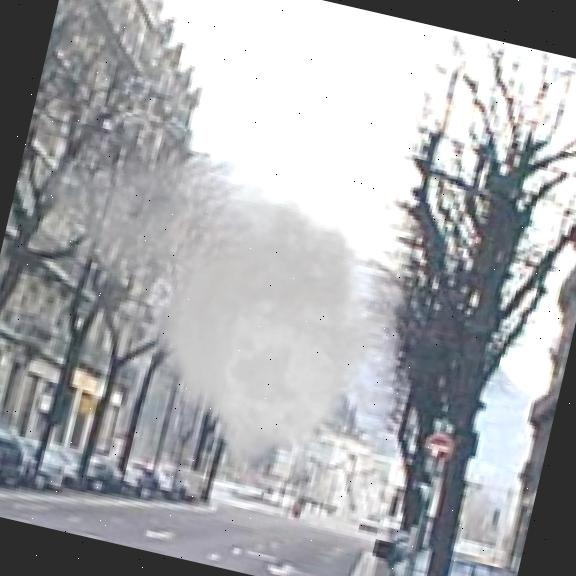smoke: (0, 107, 455, 539)
